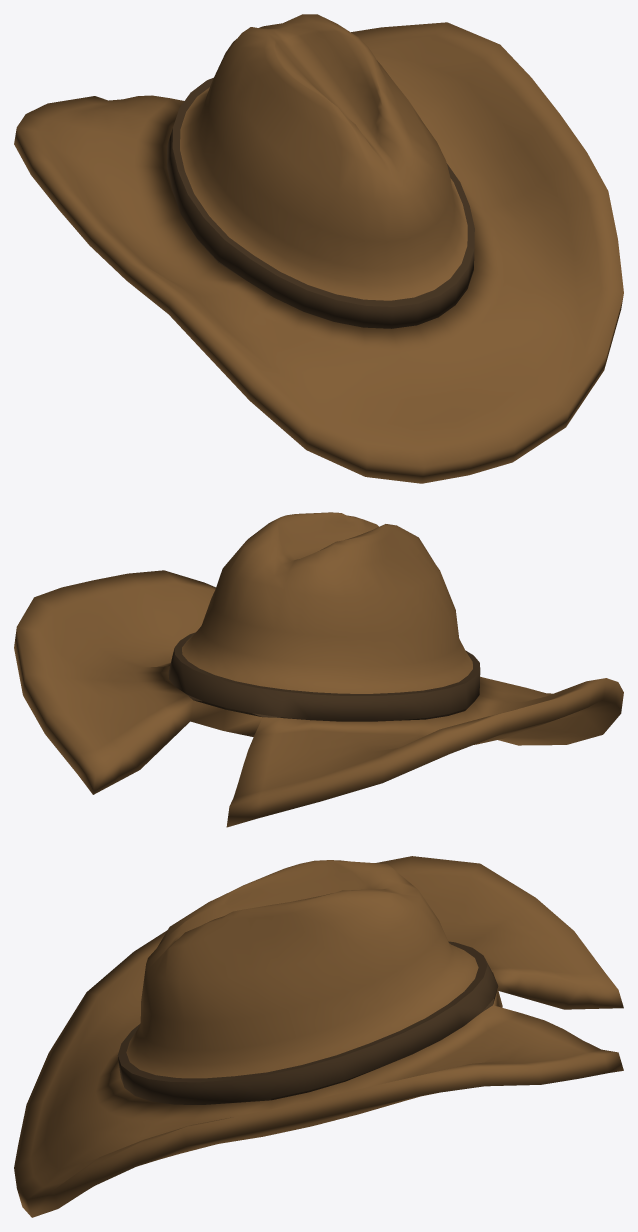
Rendered from Hat_Cowboy.fbx.
The picture shows the model from 3 angles, top to bottom: view 1: azimuth 30°, elevation 25°; view 2: azimuth 150°, elevation 25°; view 3: azimuth 270°, elevation 25°; orthographic projection. The views are drawn at different scales.
Visible parts, largest first — view 1: Cowboy Hat; view 2: Cowboy Hat; view 3: Cowboy Hat.
Boxes of the visible parts, box(x1,y1,x2,y2) form: Cowboy Hat: box(14, 14, 623, 483); Cowboy Hat: box(14, 512, 623, 827); Cowboy Hat: box(14, 856, 623, 1217).
Size of the model in its own units: 302 by 195 by 349.
